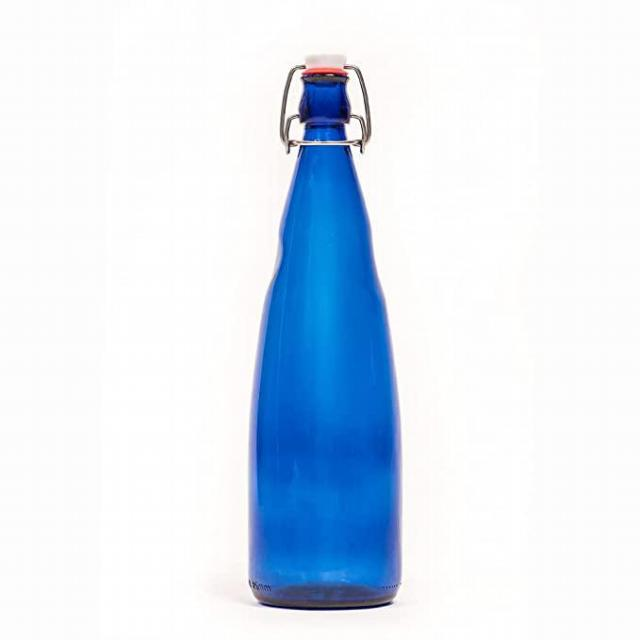non-organic waste: (237, 40, 414, 622)
